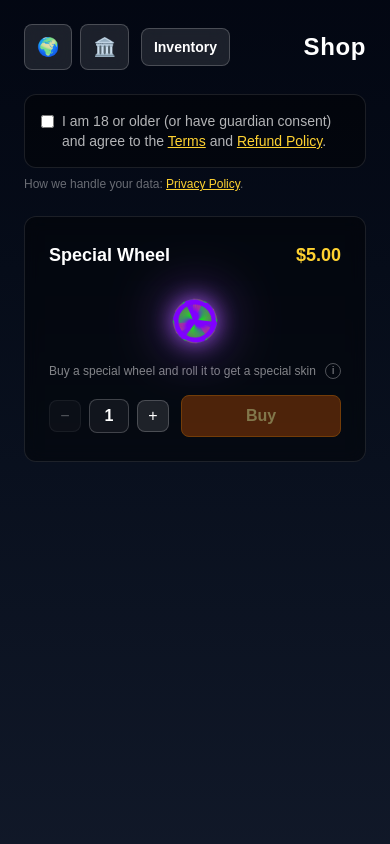
Test case: ShopPage › email_unverified opens the inline verification gate and resends the link
Click the checkbox at (48, 122), box [41,115,54,128]
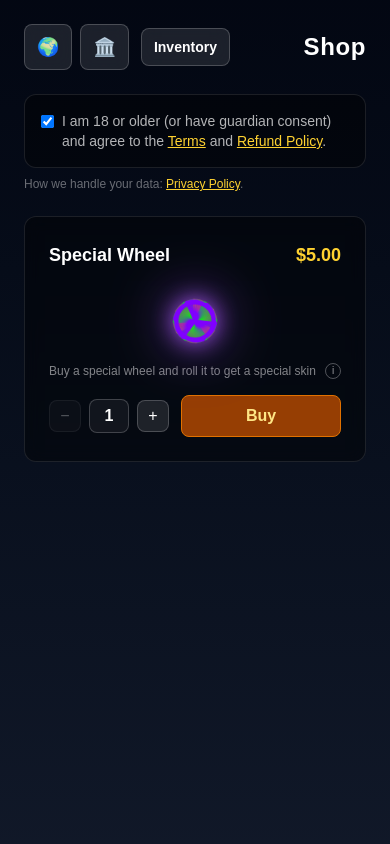
Click the button "Buy" at (261, 416), box [181,395,341,437]
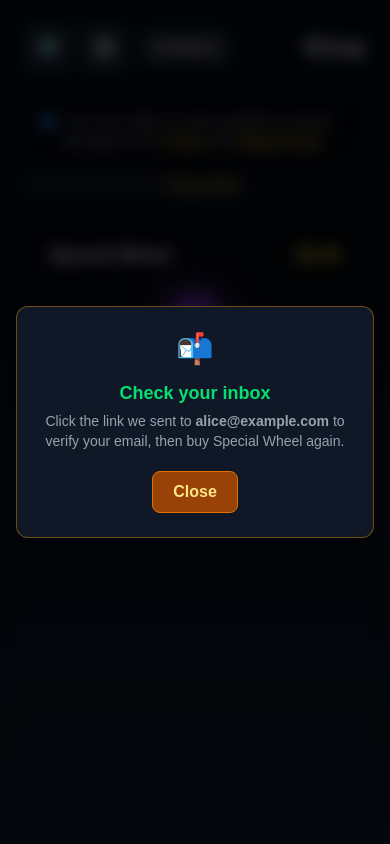
Check: the text "Check your inbox" is shown, box [120,383,270,403]
Check: the text "alice@example.com" is shown, box [196,413,329,429]
